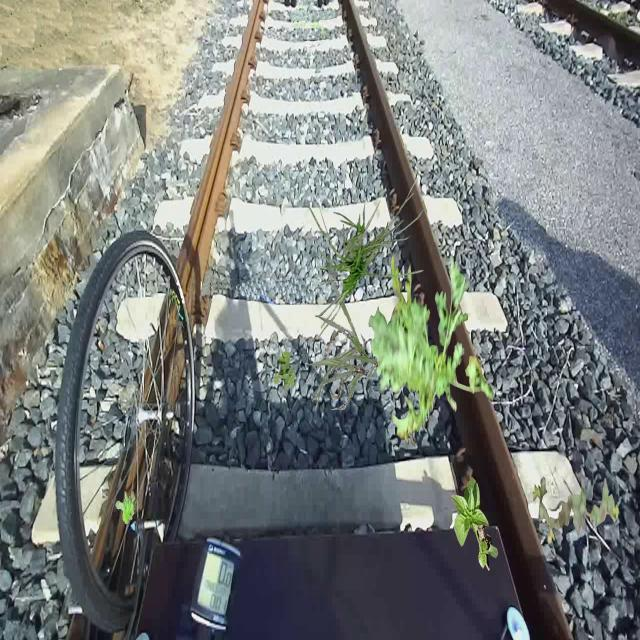Plant: (369, 251, 494, 447), (307, 177, 426, 340), (305, 286, 378, 411), (533, 476, 620, 544), (451, 477, 499, 572), (273, 350, 297, 391), (115, 492, 136, 525)
